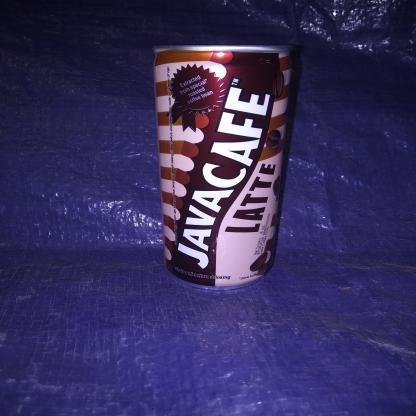can: (148, 38, 300, 287)
